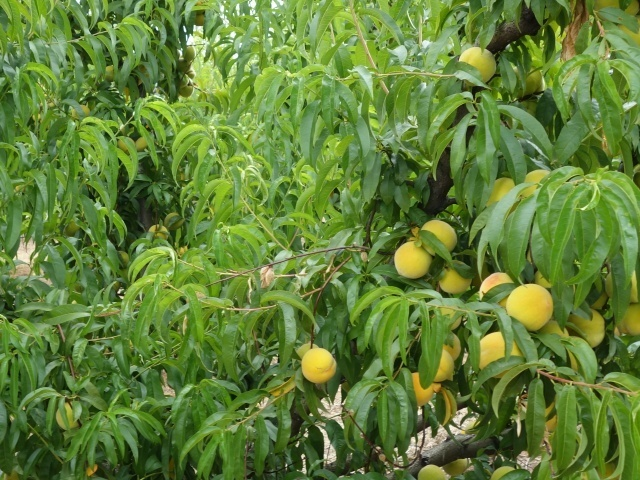peach: (507, 278, 556, 333), (470, 327, 527, 371), (390, 238, 439, 278), (567, 305, 612, 348), (477, 264, 520, 306), (456, 43, 497, 84), (300, 345, 339, 387), (418, 215, 461, 253), (518, 164, 558, 204), (436, 257, 475, 296), (485, 172, 523, 211), (605, 264, 639, 307), (512, 61, 549, 99), (53, 397, 84, 436), (612, 298, 640, 340), (425, 350, 459, 384), (408, 370, 440, 406), (440, 328, 465, 365), (436, 304, 465, 334), (415, 460, 452, 479), (441, 453, 470, 476), (490, 461, 520, 479)
